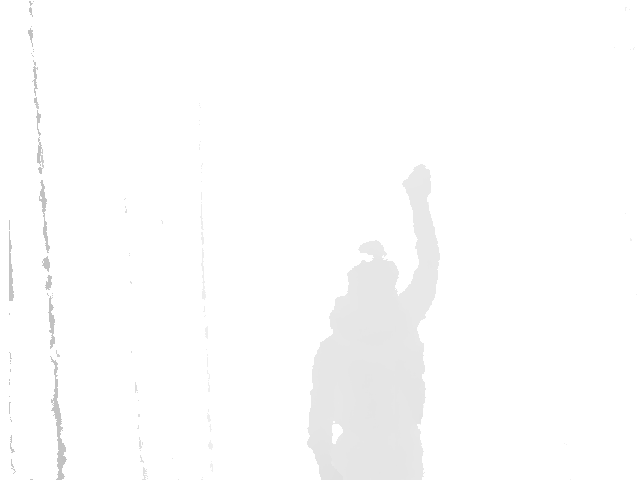hand: (402, 164, 432, 202)
head: (343, 242, 402, 310)
person: (308, 162, 441, 479)
